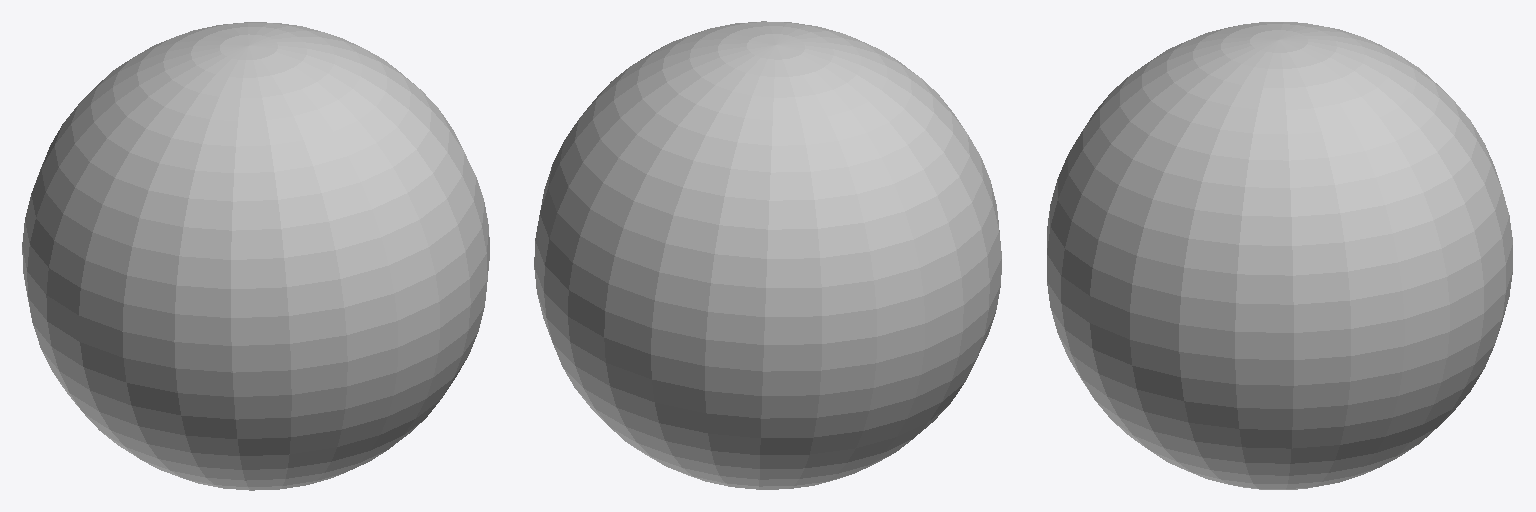
File: CubeWITHAnim0004.obj
3 views of the same model, side by side, from view 1: azimuth 30°, elevation 25°; view 2: azimuth 150°, elevation 25°; view 3: azimuth 270°, elevation 25° (orthographic).
Parts seen in each view (by area): view 1: NEWJumpBall_Sphere; view 2: NEWJumpBall_Sphere; view 3: NEWJumpBall_Sphere.
Boxes of the visible parts, x1=… form: NEWJumpBall_Sphere: x1=22, y1=22, x2=489, y2=490; NEWJumpBall_Sphere: x1=534, y1=21, x2=1001, y2=489; NEWJumpBall_Sphere: x1=1047, y1=22, x2=1512, y2=489.
Size of the model in its own units: 2 by 2 by 1.99.